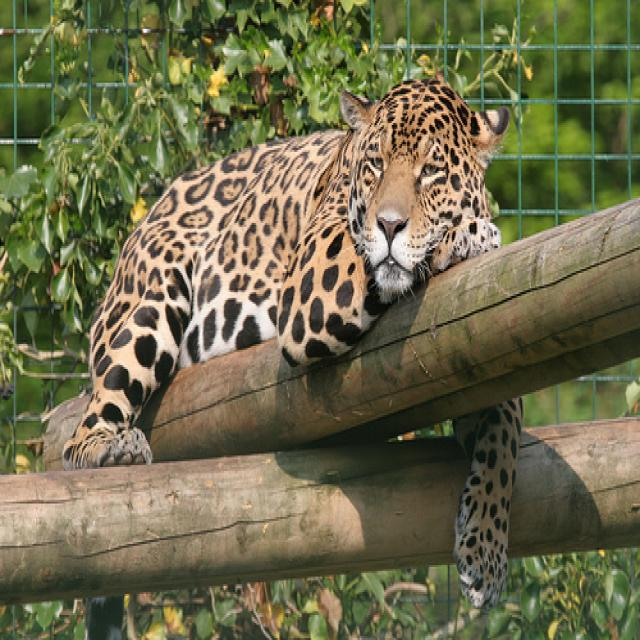Leopard: (59, 71, 525, 609)
